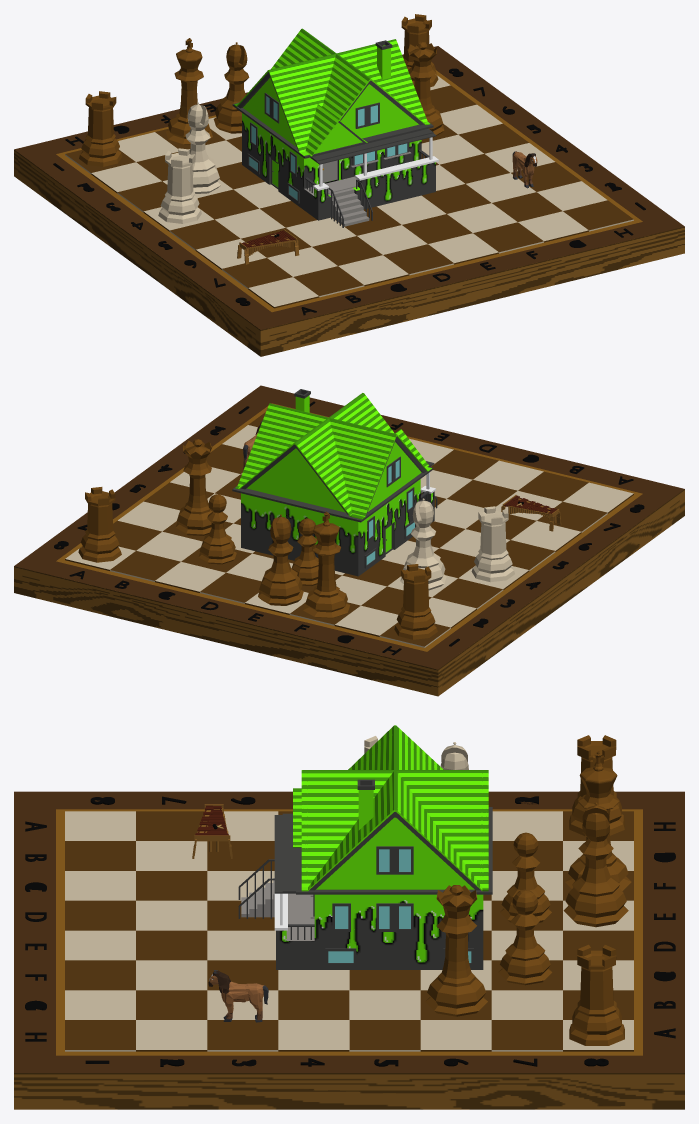
The picture shows the model from 3 angles, top to bottom: view 1: azimuth 30°, elevation 25°; view 2: azimuth 150°, elevation 25°; view 3: azimuth 270°, elevation 25°; orthographic projection. The views are drawn at different scales.
Parts seen in each view (by area): view 1: Cube.002, Cube.754, OBJRANDOM_MARIMBA, ANIMAL_CABALLO; view 2: Cube.002, Cube.754, OBJRANDOM_MARIMBA; view 3: Cube.002, Cube.754, ANIMAL_CABALLO, OBJRANDOM_MARIMBA.
Boxes of the visible parts, x1,y1,x2,y2 form: Cube.002: [14, 14, 684, 356]; Cube.754: [232, 28, 438, 227]; OBJRANDOM_MARIMBA: [237, 229, 299, 264]; ANIMAL_CABALLO: [512, 151, 537, 188]; Cube.002: [14, 385, 684, 696]; Cube.754: [232, 389, 437, 576]; OBJRANDOM_MARIMBA: [501, 495, 561, 531]; Cube.002: [14, 735, 684, 1109]; Cube.754: [238, 725, 492, 969]; ANIMAL_CABALLO: [208, 970, 268, 1022]; OBJRANDOM_MARIMBA: [192, 804, 232, 858].
Size of the model in its own units: 3981 by 1483 by 4012.
Materials: 29 (3 with a texture image).
